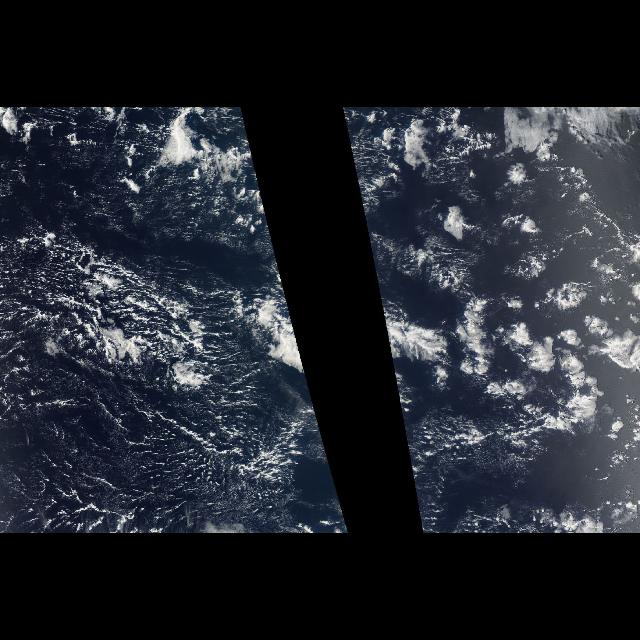Gravel: (2, 361, 264, 514)
